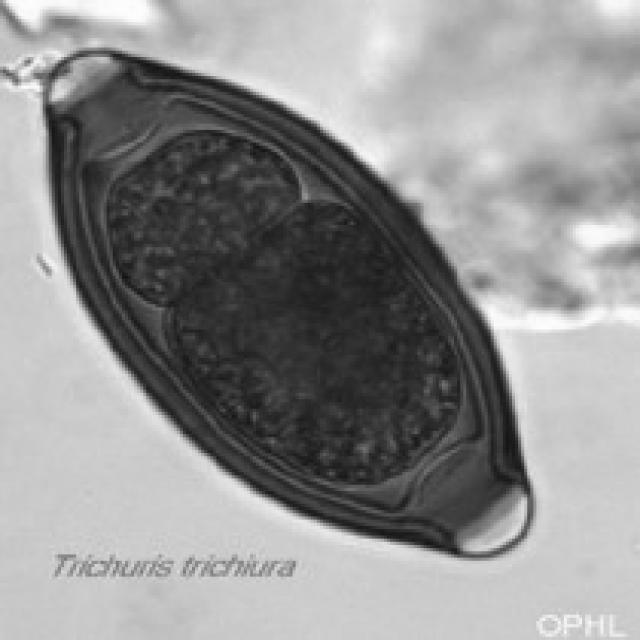Trichuris Trichiura: (35, 43, 541, 575)
